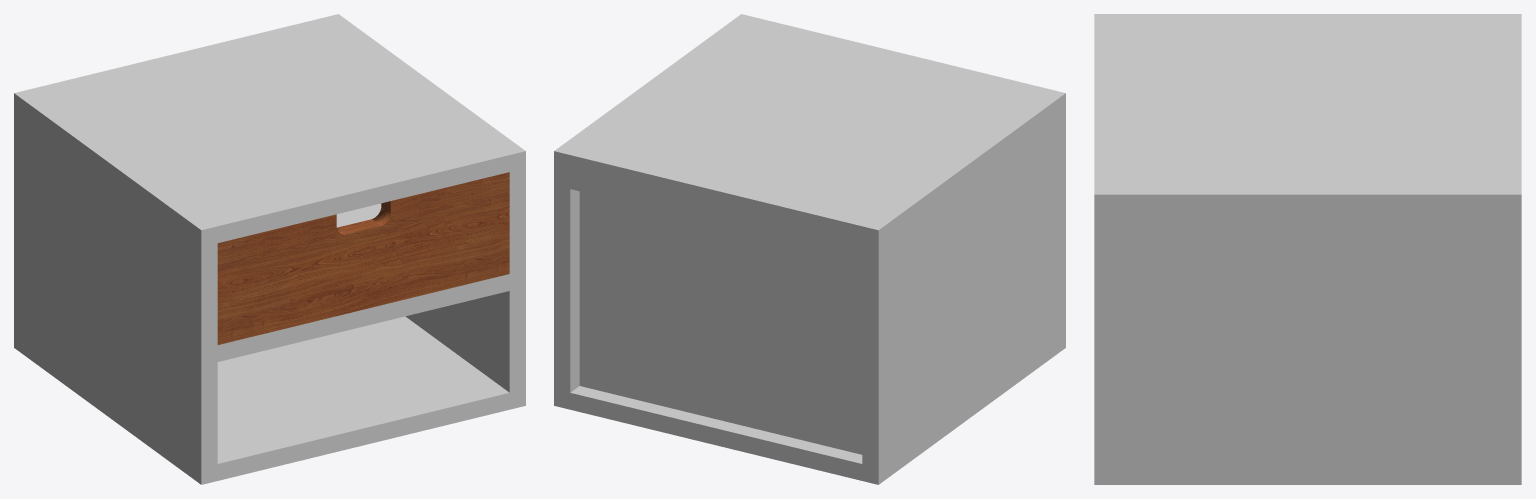
Rendered from fanny.glb.
3 renders of one model, left to right at view 1: azimuth 30°, elevation 25°; view 2: azimuth 150°, elevation 25°; view 3: azimuth 270°, elevation 25°, orthographic. The views are drawn at different scales.
Visible parts, largest first — view 1: fanny kotak, laci kayu, laci putih; view 2: fanny kotak; view 3: fanny kotak.
Boxes of the visible parts, x1,y1,x2,y2 form: fanny kotak: [14, 14, 525, 484]; laci kayu: [217, 172, 509, 344]; laci putih: [336, 203, 381, 227]; fanny kotak: [554, 14, 1065, 484]; fanny kotak: [1094, 14, 1521, 484].
Size of the model in its own units: 0.3 by 0.225 by 0.3001.
Materials: 2 (1 with a texture image).
